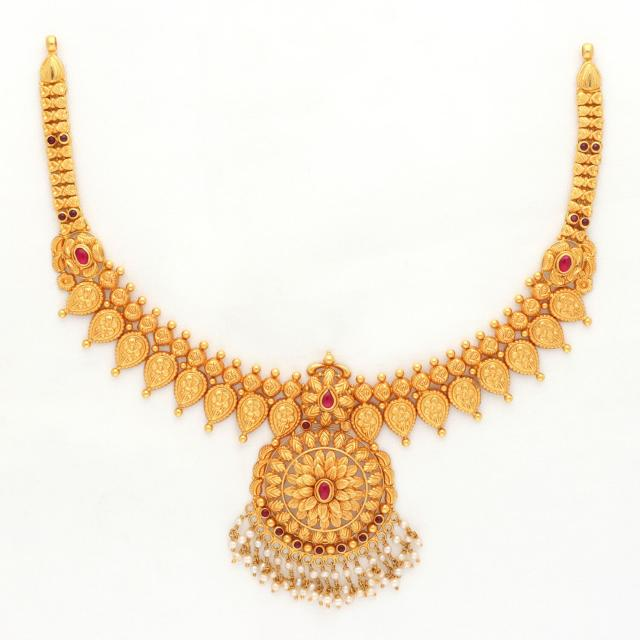missing gem: (342, 423, 350, 430)
